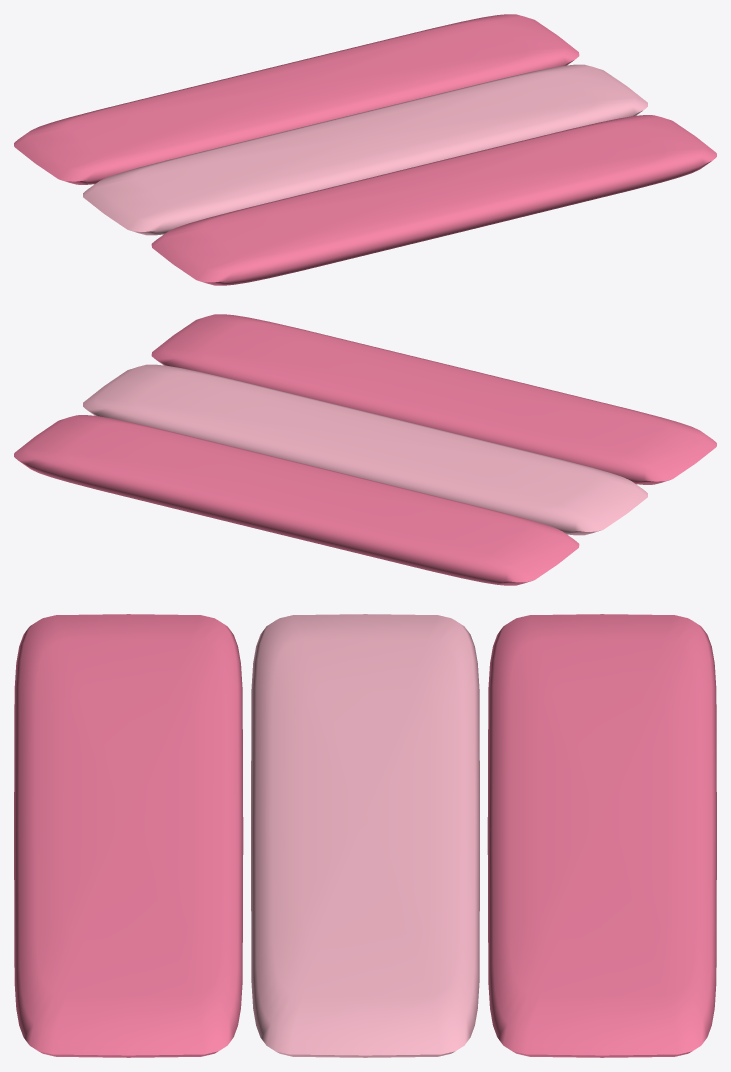
File: tapete_tiras_rosa.glb
3 renders of one model, top to bottom at view 1: azimuth 30°, elevation 25°; view 2: azimuth 150°, elevation 25°; view 3: azimuth 270°, elevation 25°, orthographic. The views are drawn at different scales.
Parts seen in each view (by area): view 1: tapete_tiras_rosa; view 2: tapete_tiras_rosa; view 3: tapete_tiras_rosa.
Boxes of the visible parts, bbox=[...] form: tapete_tiras_rosa: bbox=[14, 14, 716, 285]; tapete_tiras_rosa: bbox=[14, 314, 716, 585]; tapete_tiras_rosa: bbox=[14, 614, 716, 1057].
Size of the model in its own units: 0.68 by 0.032 by 0.46.
1 material, 1 textured.
